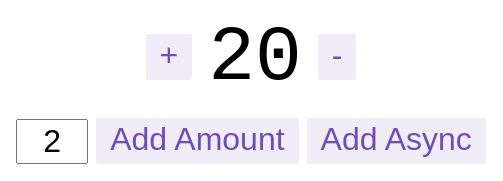
simulate events › Simulate input ammount and + click event
Replace the text in the field with test id "incrementInput" with "3" at {"x": 52, "y": 141}, box top-left (16, 118), bottom-right (88, 164)
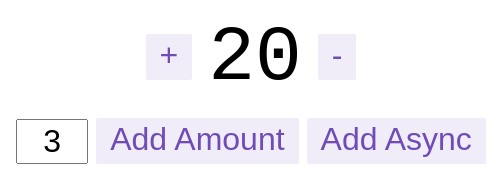
Click the button "Add Amount" at {"x": 197, "y": 141}, box top-left (96, 118), bottom-right (298, 164)
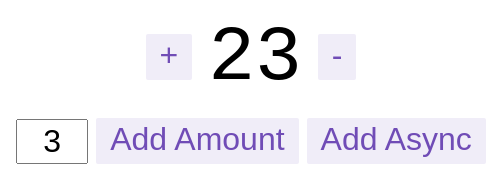
Expected: the text "23" is shown, top-left (208, 14), bottom-right (302, 102)
